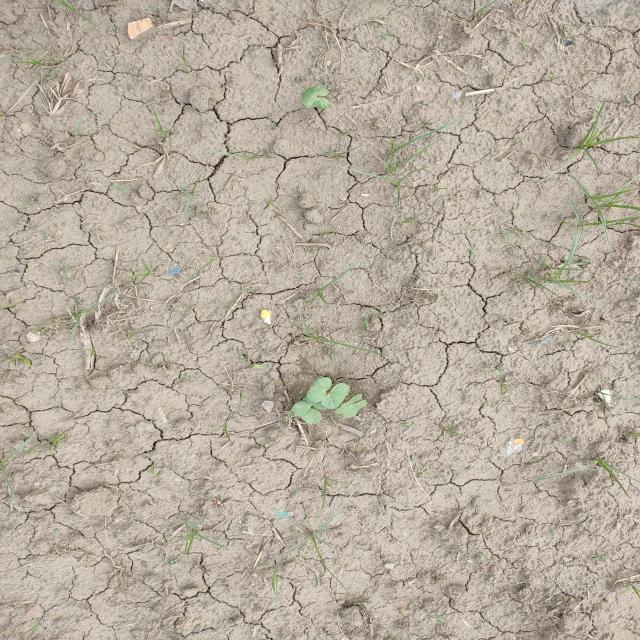seedling_s2: (321, 383, 350, 409), (292, 401, 322, 424), (307, 377, 332, 403), (335, 394, 362, 414), (302, 85, 329, 101), (343, 400, 367, 418), (302, 396, 327, 410), (303, 97, 329, 109)
